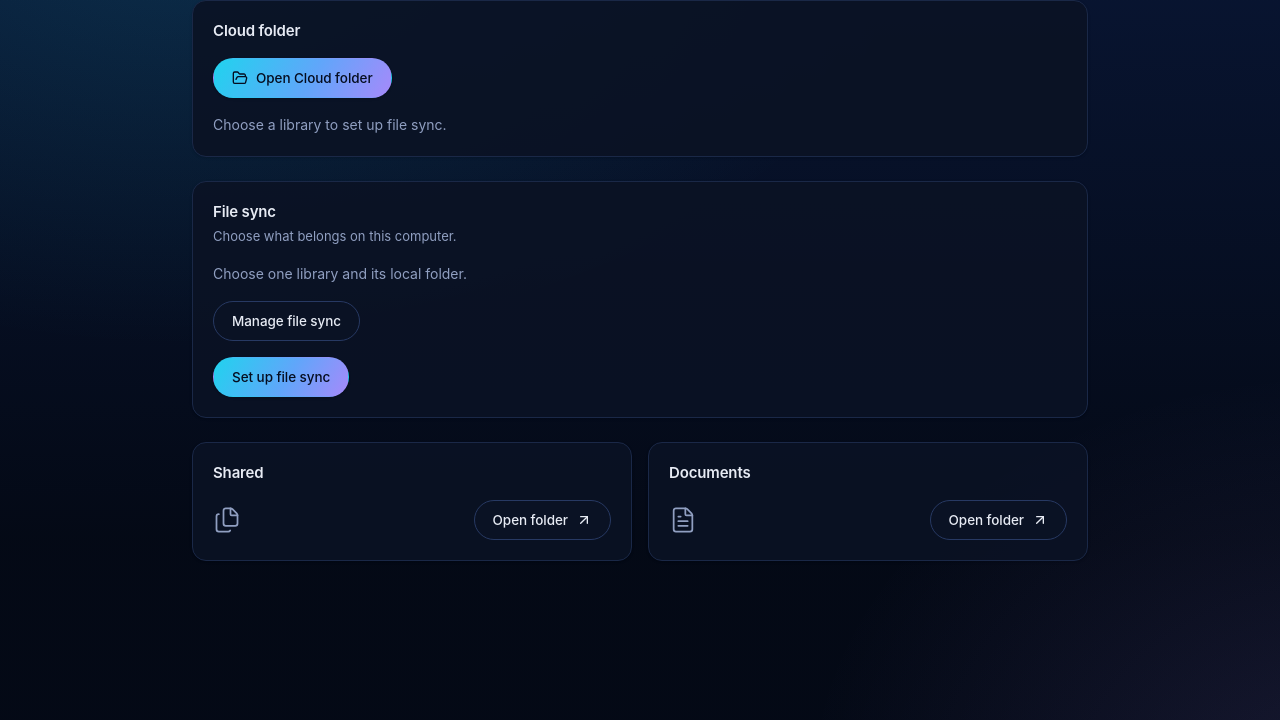
Test: Cloud onboarding › shows a safe setup failure instead of backend details
Click the button "Set up file sync": coordinates (281, 377) [213,357,349,397]
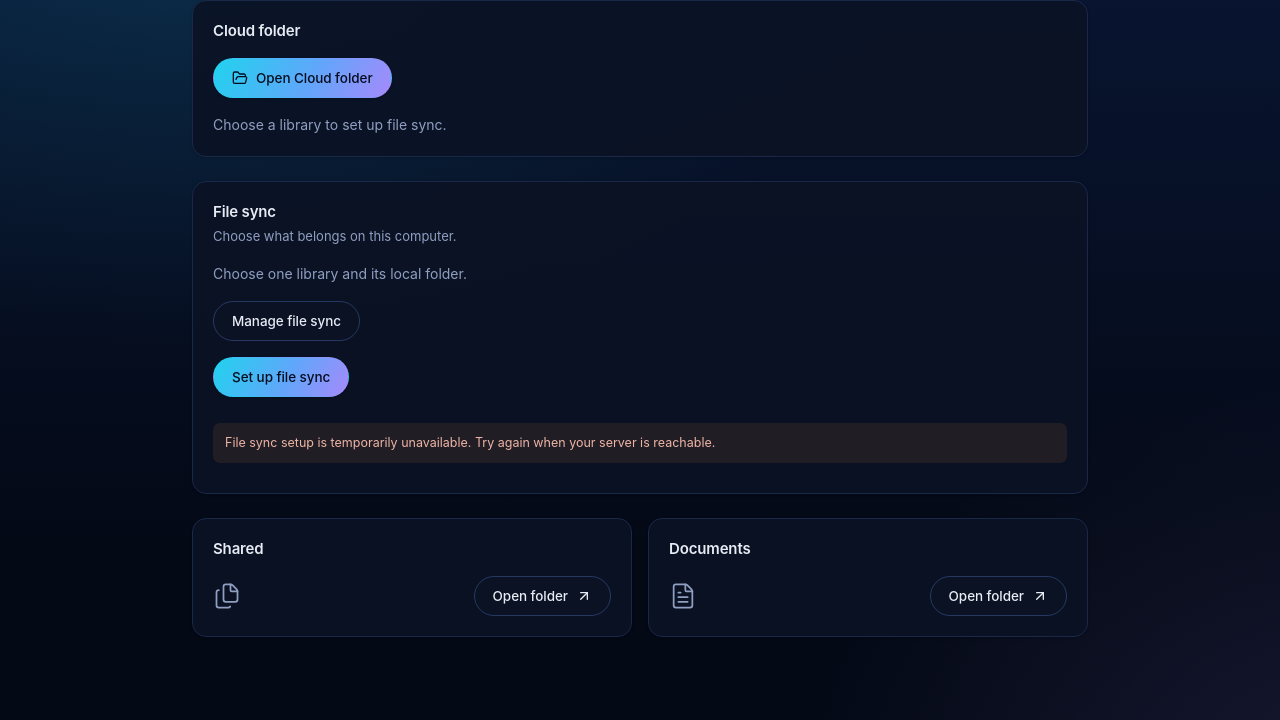
Expected: the 2nd message shows "File sync setup is temporarily unavailable", [225,435,715,450]
